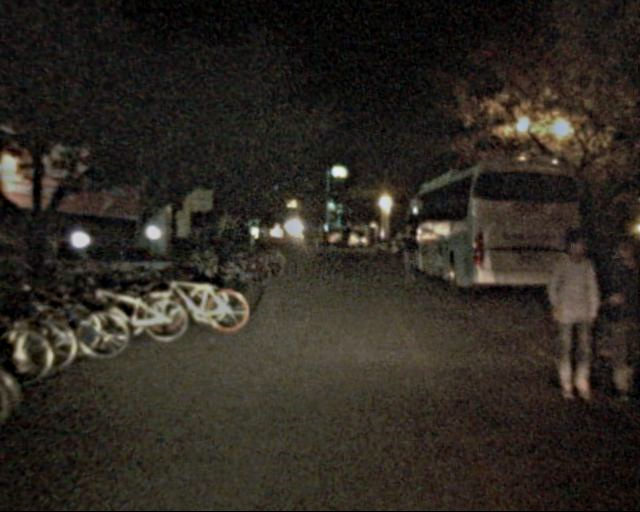person: (532, 232, 598, 392), (581, 240, 640, 394), (396, 223, 423, 290), (258, 227, 272, 262)
